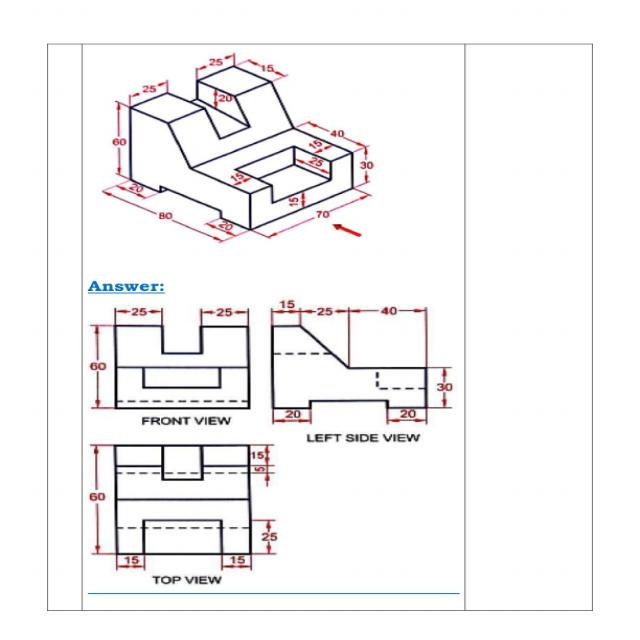Drawings: (94, 48, 386, 253), (90, 438, 283, 574), (265, 298, 459, 428), (80, 302, 260, 414)
